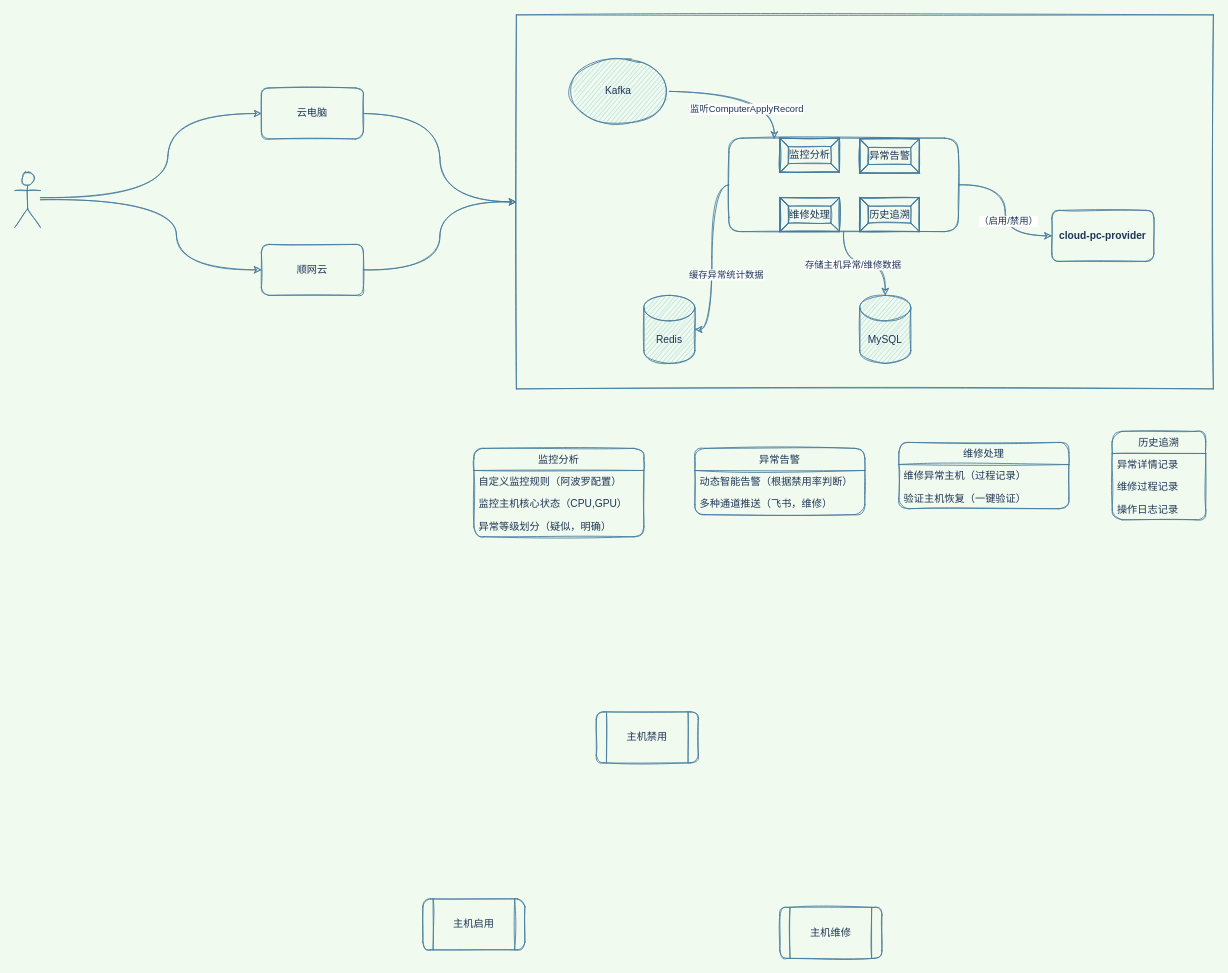
Image size: 1228x973. Some labels were removed from this diagram. Here are the shapes that lost their labels. From the top down, the box of each, then its label:
(14, 171, 40, 227): Actor
(728, 137, 958, 232): host-abnormal-provider
